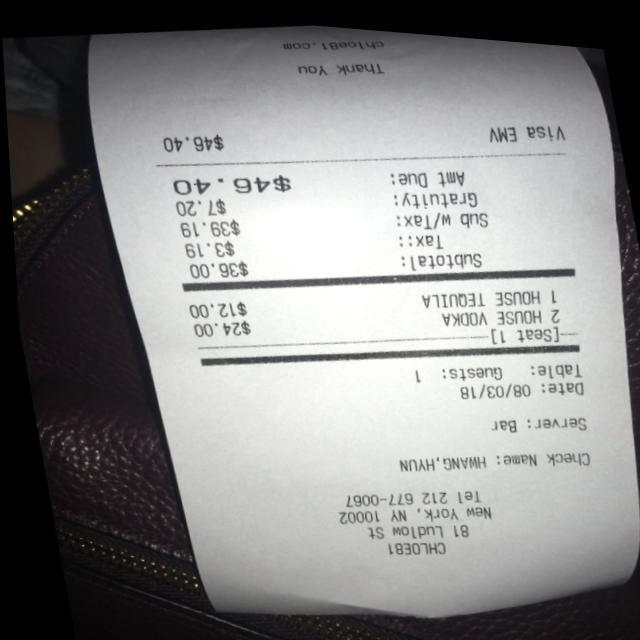Paper: (68, 4, 640, 640)
